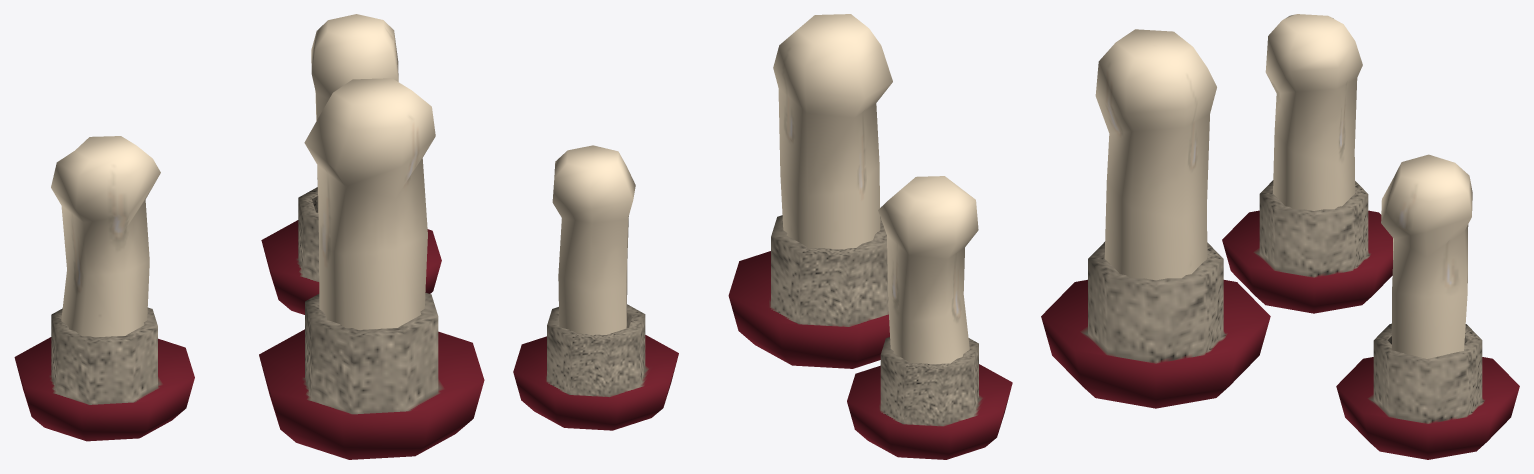
Rendered from Candles.fbx.
3 renders of one model, left to right at view 1: azimuth 30°, elevation 25°; view 2: azimuth 150°, elevation 25°; view 3: azimuth 270°, elevation 25°, orthographic. The views are drawn at different scales.
Parts seen in each view (by area): view 1: Candle 1, Candle 3, Candle 2; view 2: Candle 1, Candle 3, Candle 2; view 3: Candle 1, Candle 2, Candle 3.
Boxes of the visible parts, x1,y1,x2,y2 form: Candle 1: (259,78,484,459); Candle 3: (14,136,194,441); Candle 2: (261,14,441,314); Candle 1: (728,14,892,368); Candle 3: (847,176,1012,459); Candle 2: (513,145,678,430); Candle 1: (1041,29,1270,408); Candle 2: (1336,154,1519,459); Candle 3: (1222,14,1392,313).
Size of the model in its own units: 0.641 by 0.4524 by 0.5792.
